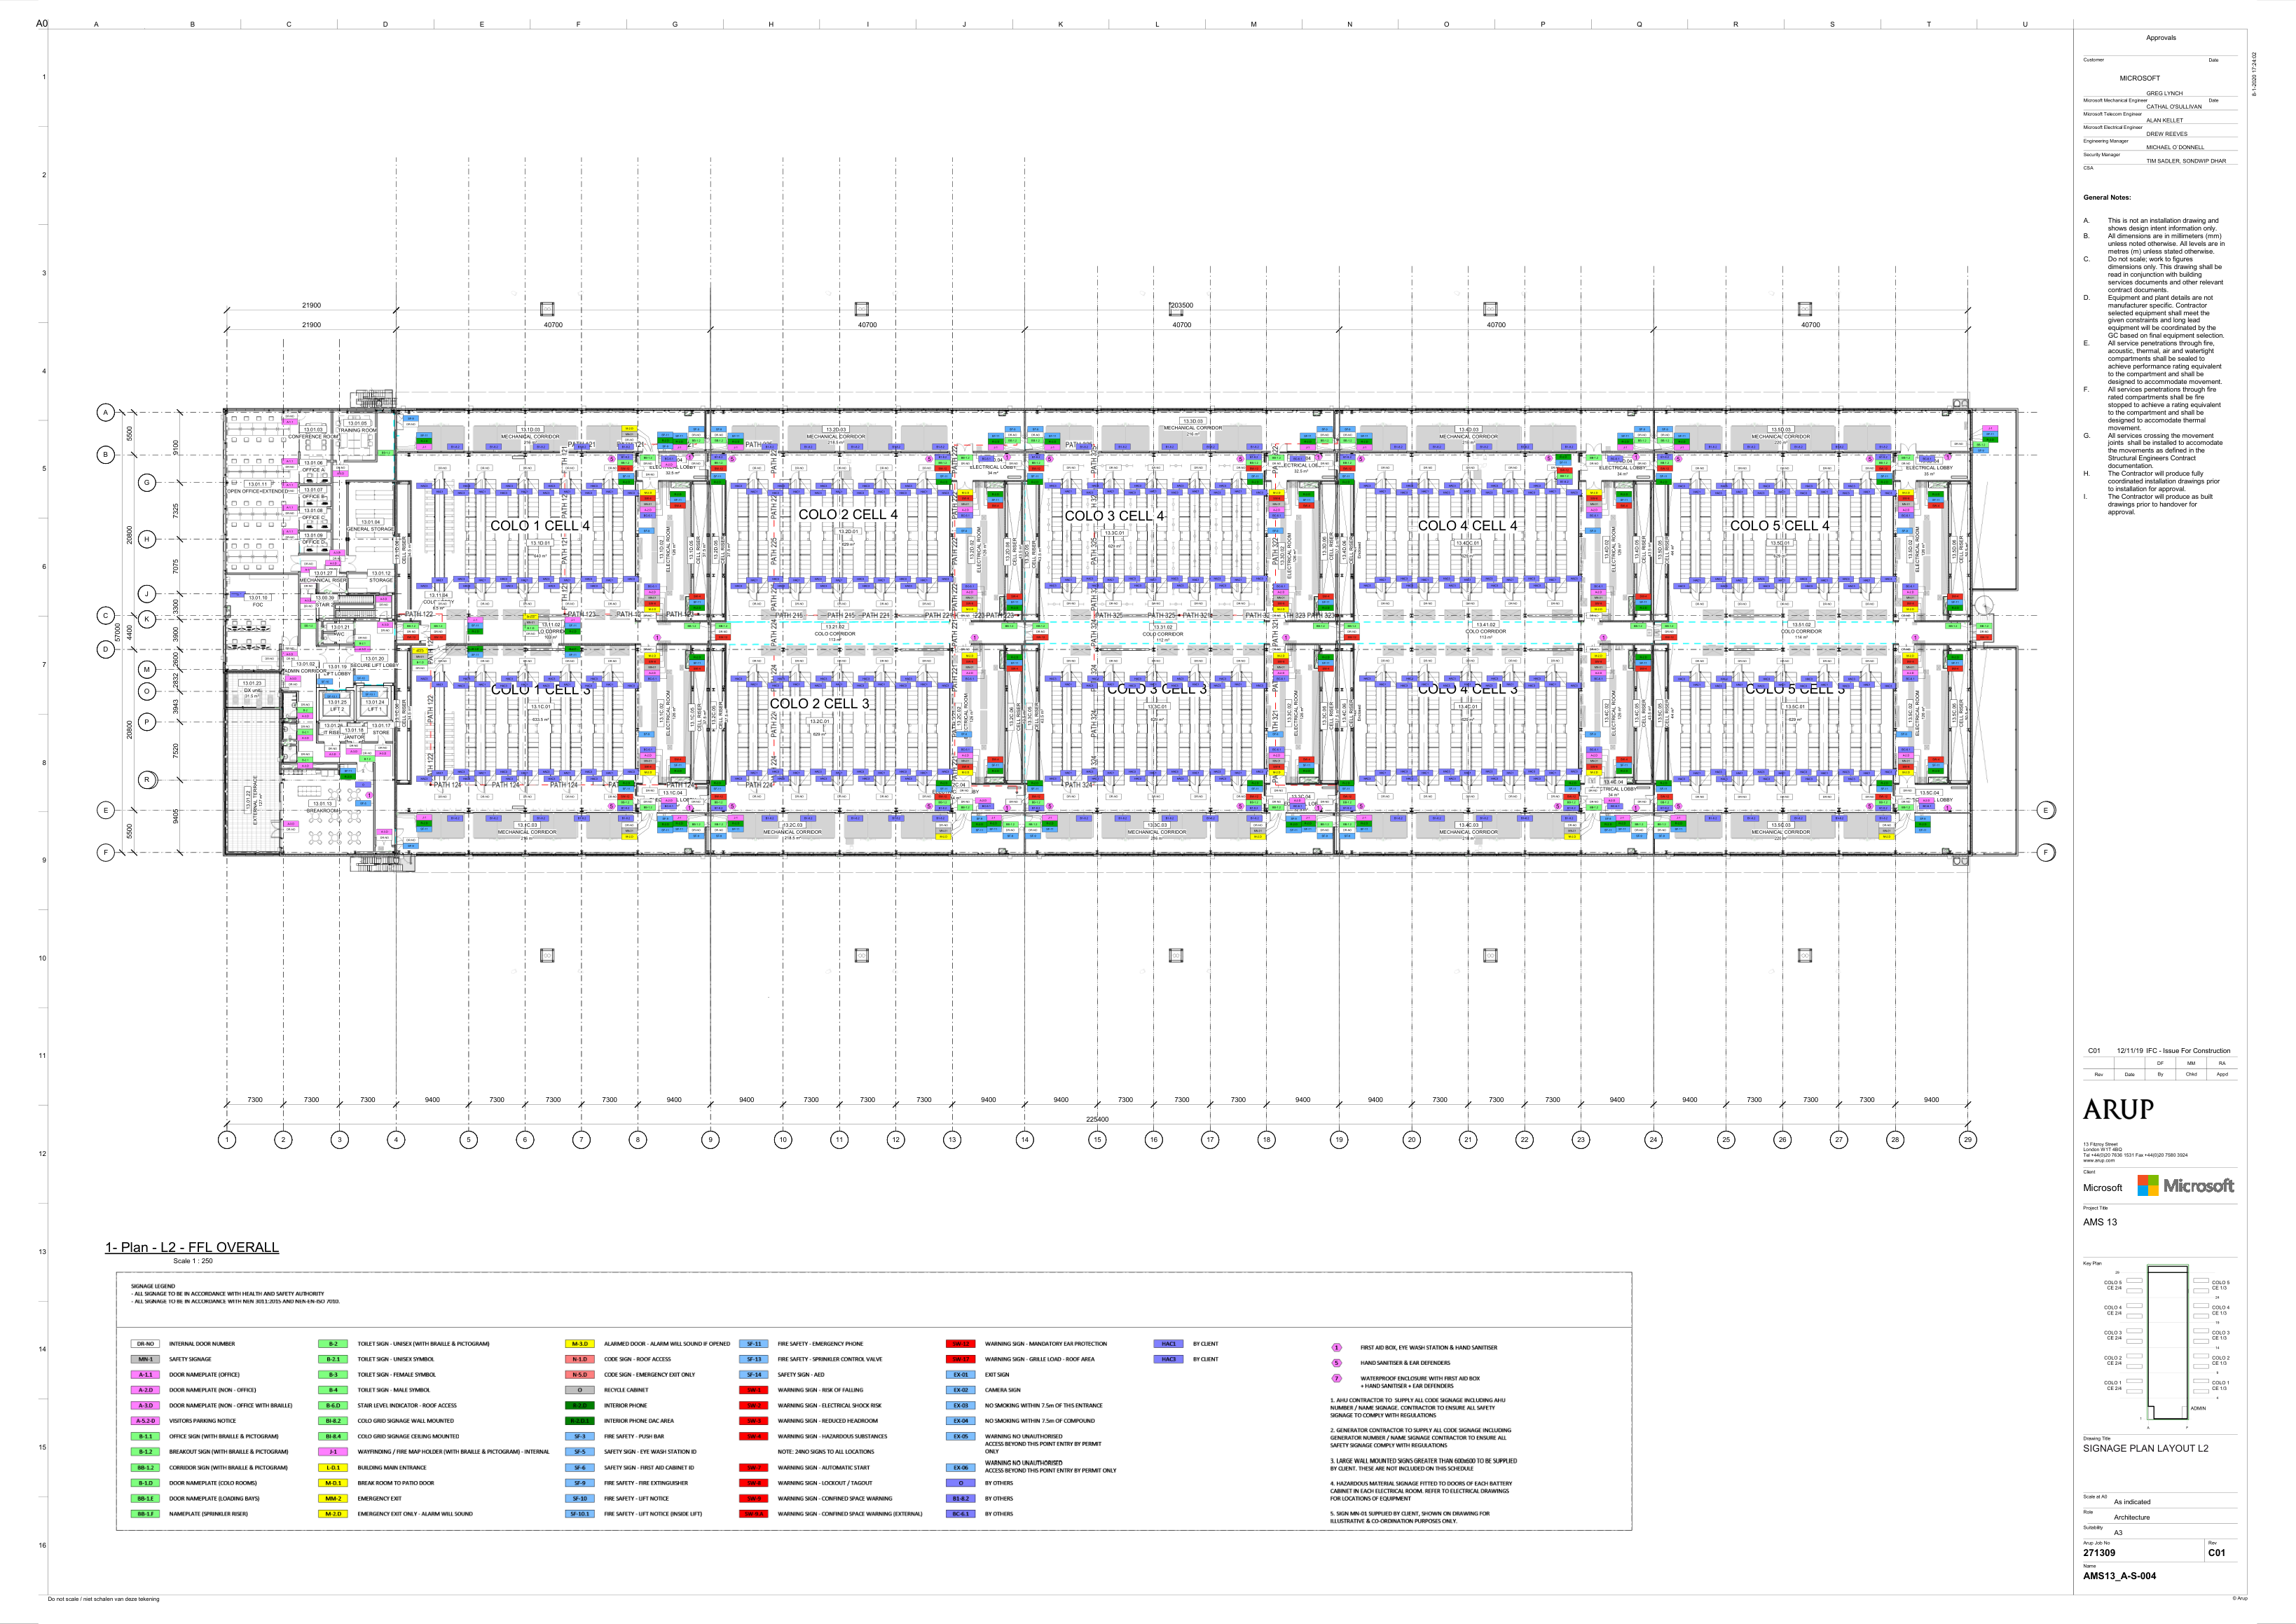Legend: (116, 1271, 1631, 1529)
